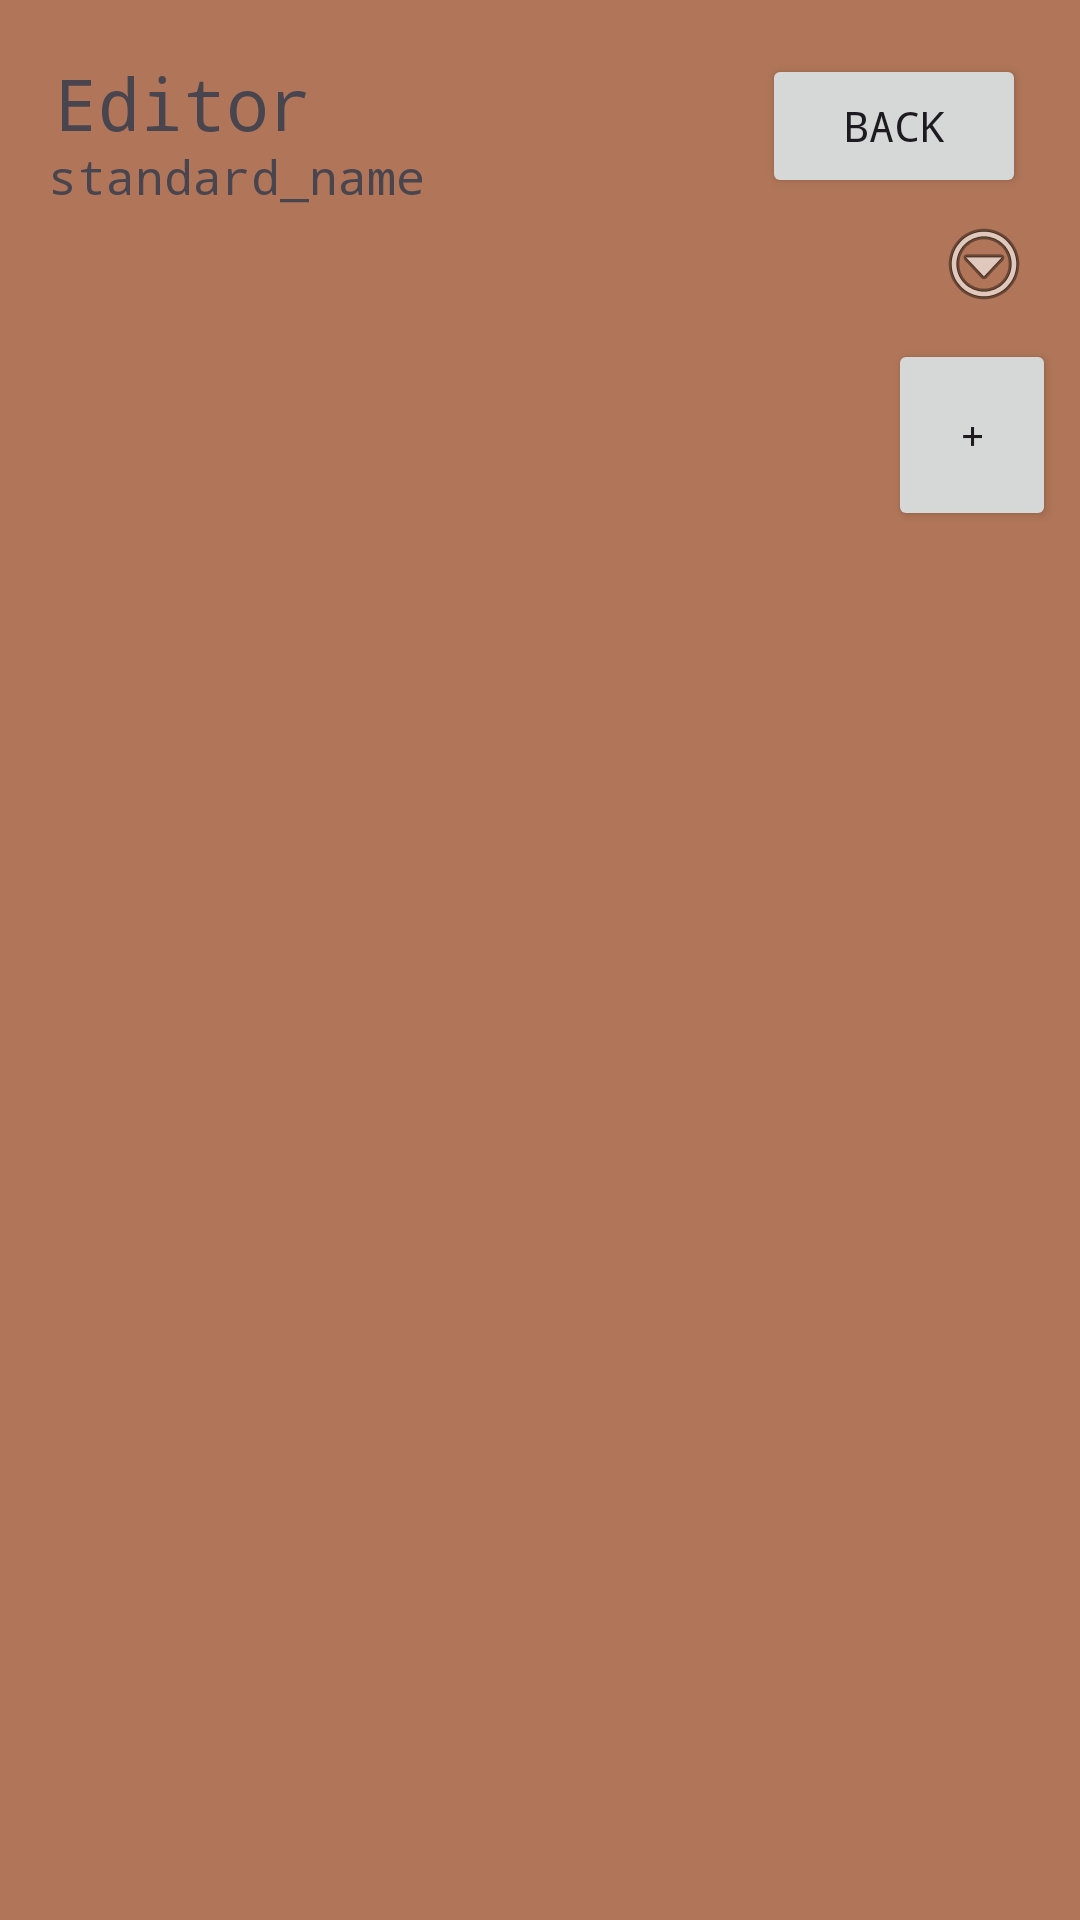

Where icons sit on this 1080 × 1920 app screen, as [x1, y1, x2, y2]:
menu: [949, 229, 1019, 299]
